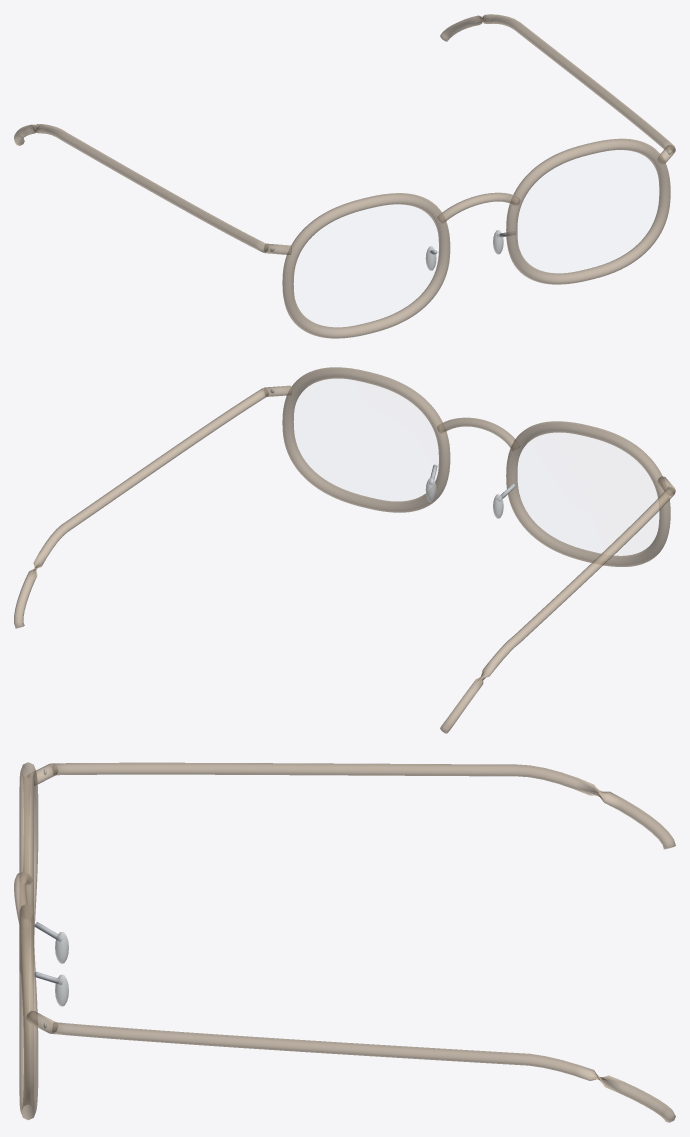
Rendered from tim-41-v1.glb.
3 views of the same model, one above another, from view 1: azimuth 30°, elevation 25°; view 2: azimuth 150°, elevation 25°; view 3: azimuth 270°, elevation 25° (orthographic). The views are drawn at different scales.
Parts seen in each view (by area): view 1: rim_right, rim_left, temple_right, temple_left, bridge; view 2: rim_left, rim_right, temple_left, temple_right, bridge; view 3: temple_right, temple_left, rim_left, rim_right, bridge.
Part boxes in pixels (x1=…): rim_right: x1=282, y1=193, x2=450, y2=338; rim_left: x1=506, y1=138, x2=670, y2=284; temple_right: x1=14, y1=124, x2=268, y2=252; temple_left: x1=440, y1=14, x2=675, y2=152; bridge: x1=437, y1=192, x2=520, y2=223; rim_left: x1=282, y1=367, x2=450, y2=512; rim_right: x1=506, y1=421, x2=670, y2=566; temple_left: x1=14, y1=388, x2=268, y2=628; temple_right: x1=440, y1=487, x2=675, y2=733; bridge: x1=437, y1=417, x2=519, y2=450; temple_right: x1=53, y1=762, x2=675, y2=849; temple_left: x1=52, y1=1022, x2=675, y2=1122; rim_left: x1=19, y1=903, x2=38, y2=1120; rim_right: x1=19, y1=762, x2=38, y2=972; bridge: x1=14, y1=871, x2=32, y2=923.
Bounding box in the file's own units: 0.1579 × 0.0446 × 0.1503.
